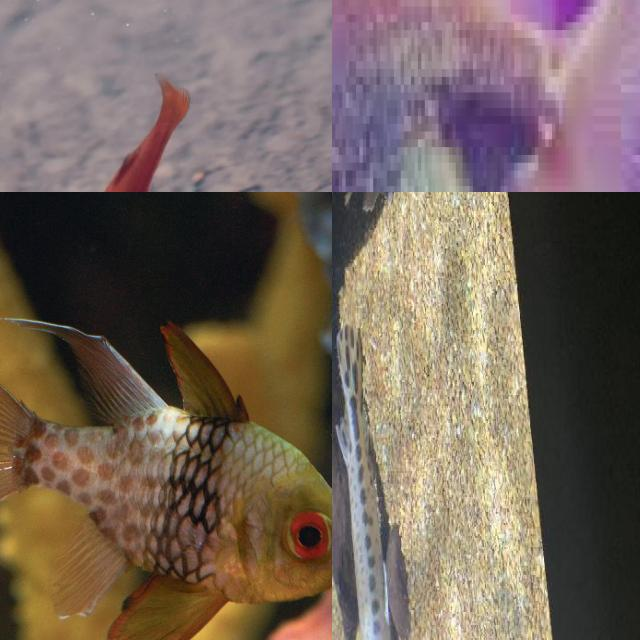fish: (0, 192, 332, 640), (0, 0, 332, 192), (332, 0, 640, 192), (332, 306, 419, 640)
